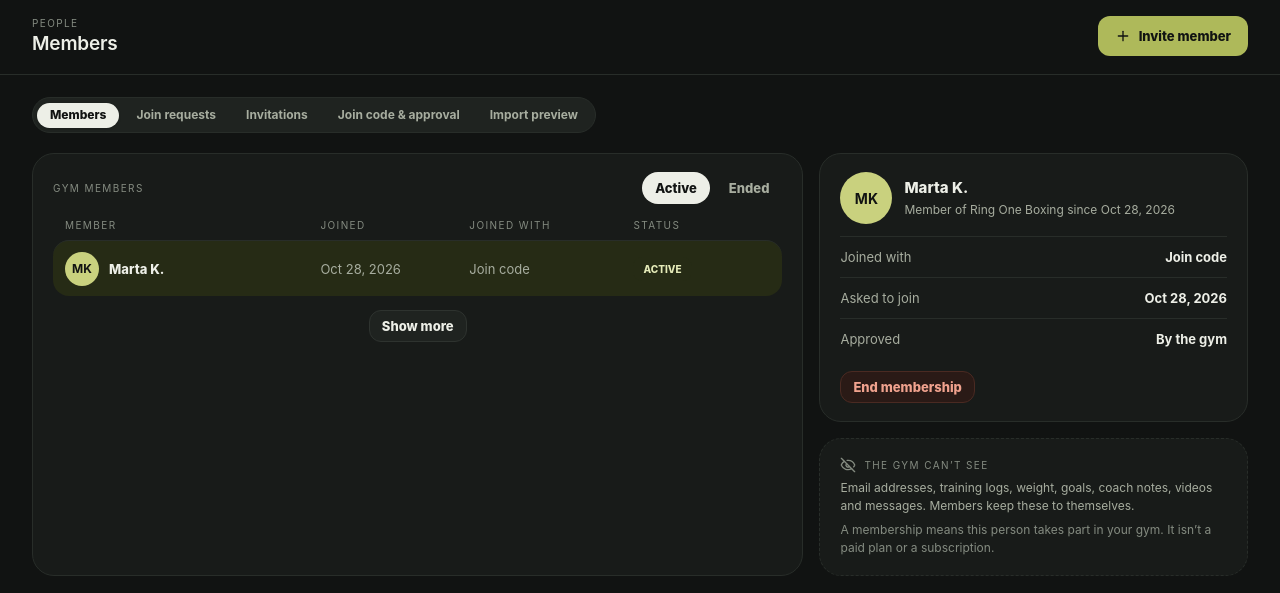
Test case: GymMembers (WG3, SF-96) › shows no total while more pages exist, and loads the next page on request
The width and height of the screenshot is (1280, 593).
Expected: the table named "Active members" is shown, [53,218,782,296]
Click the button "Show more" at [418, 326], box [369,310,467,342]
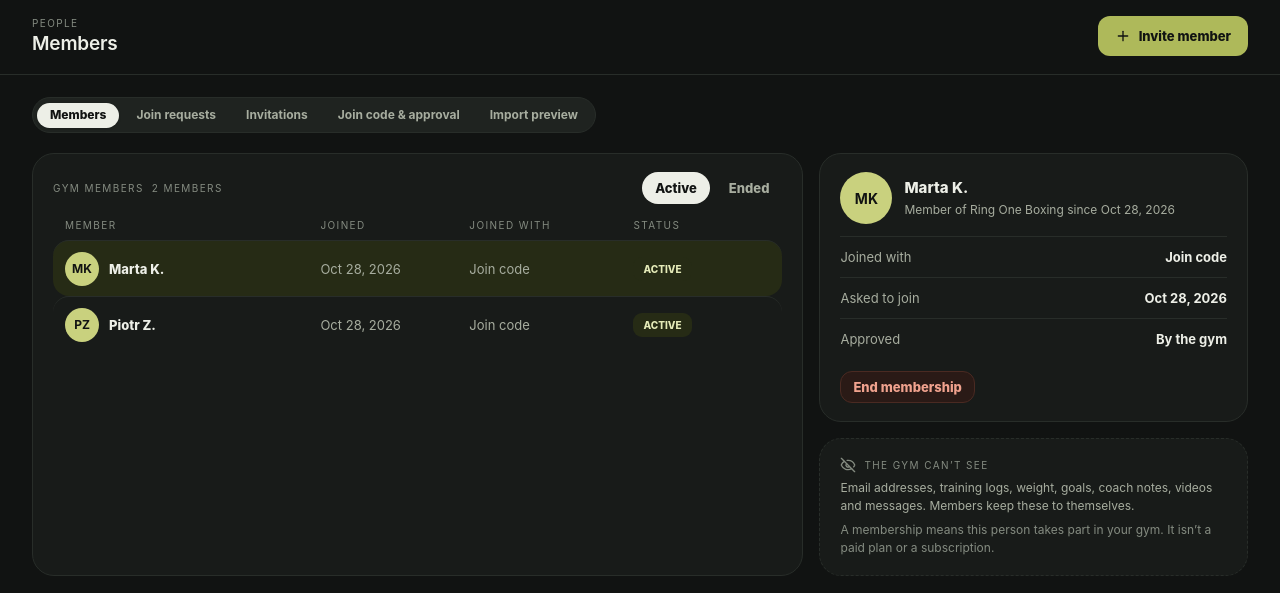
Now the button "Piotr Z." is shown, box [109,314,156,334]
Now the text "2 members" is shown, box [152,181,223,195]
